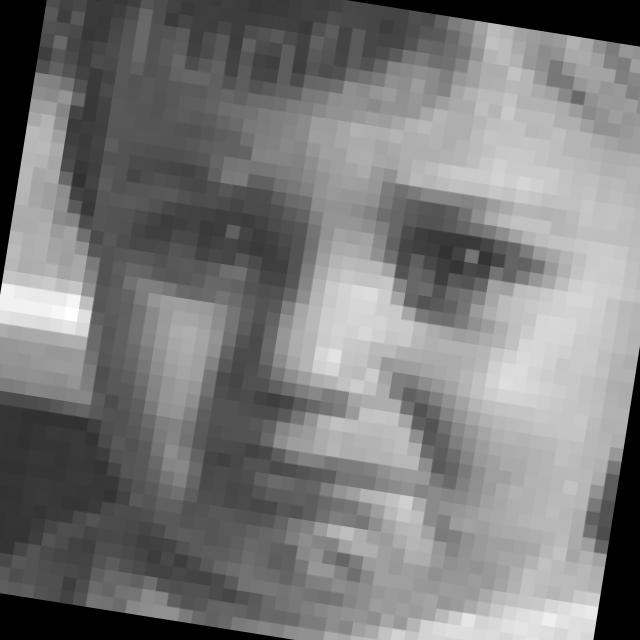sad: (80, 91, 591, 584)
